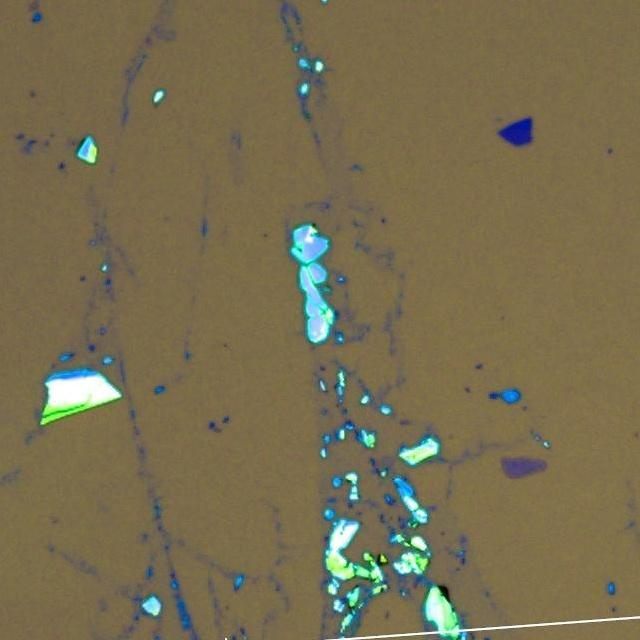monolayer-eWW4: (500, 452, 550, 480)
